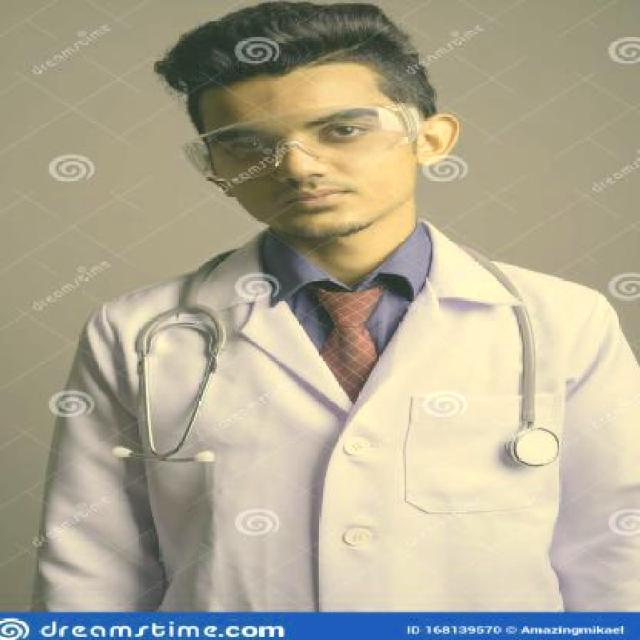face_nomask: (217, 99, 389, 227)
glasses: (178, 102, 427, 185)
head_nohelmet: (153, 0, 398, 105)
person: (41, 0, 612, 614)
